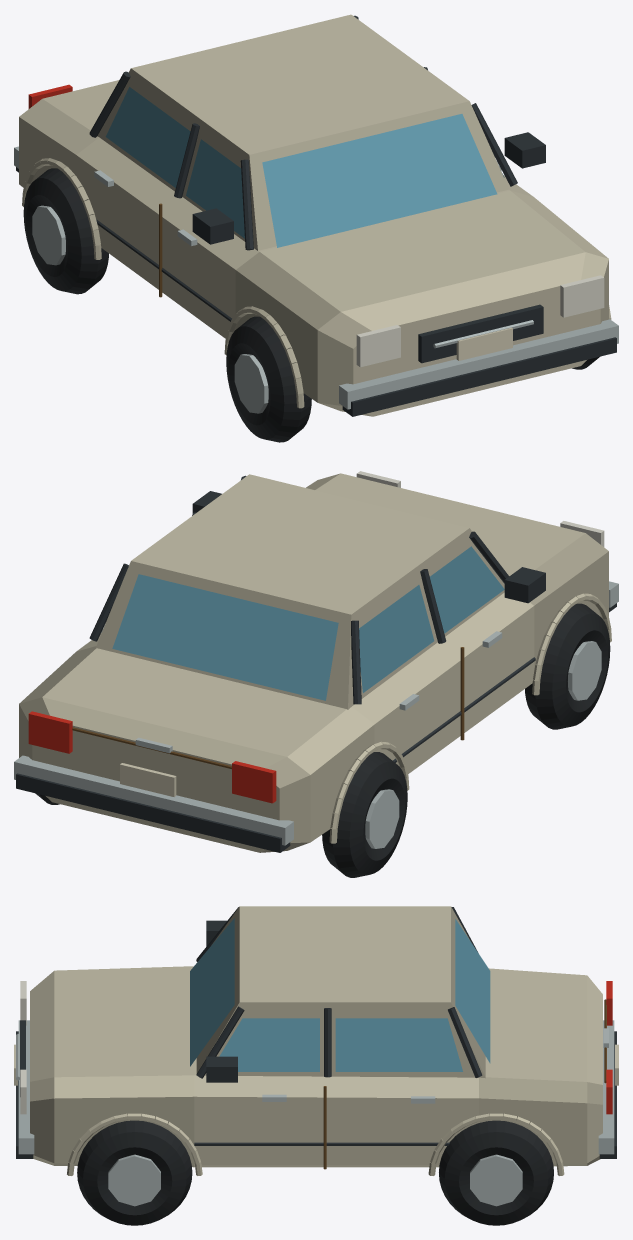
The model's file is car.glb.
The picture shows the model from 3 angles, top to bottom: view 1: azimuth 30°, elevation 25°; view 2: azimuth 150°, elevation 25°; view 3: azimuth 270°, elevation 25°; orthographic projection. The views are drawn at different scales.
Parts seen in each view (by area): view 1: CarMesh; view 2: CarMesh; view 3: CarMesh.
Part boxes in pixels (<box>): CarMesh: <box>14,14,618,442</box>; CarMesh: <box>14,471,618,877</box>; CarMesh: <box>14,906,618,1225</box>.
Size of the model in its own units: 1.99 by 1.3 by 3.46.
